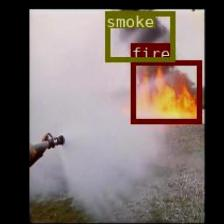fire: (130, 59, 201, 123)
smoke: (104, 11, 174, 61)
